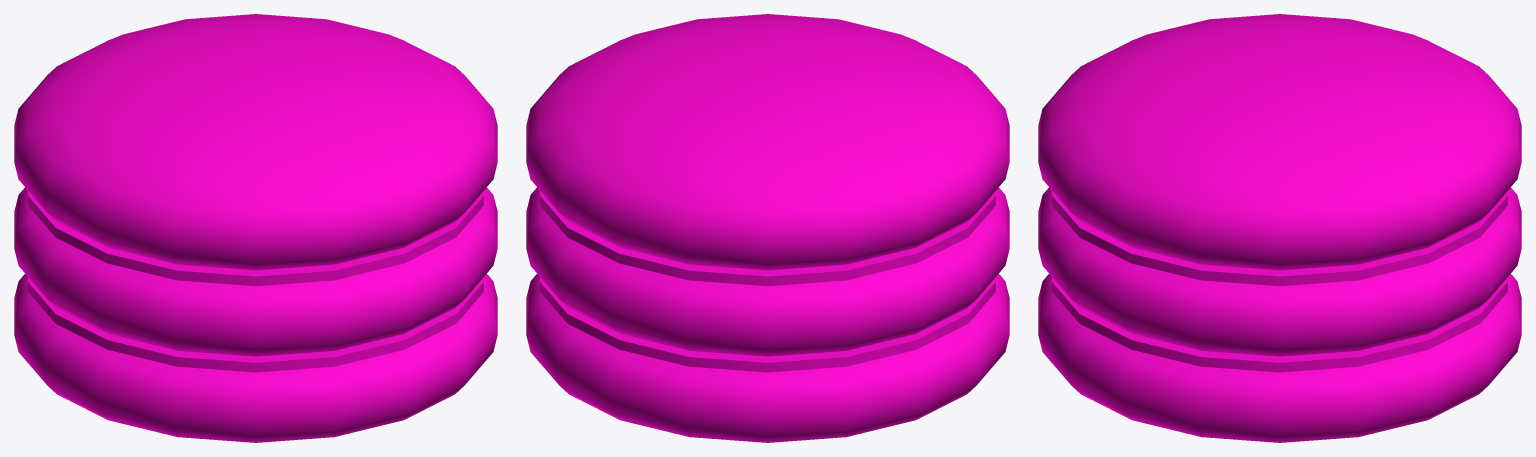
File: Macaron.fbx
The picture shows the model from 3 angles, left to right: view 1: azimuth 30°, elevation 25°; view 2: azimuth 150°, elevation 25°; view 3: azimuth 270°, elevation 25°; orthographic projection.
Visible parts, largest first — view 1: Macaron_Tapa, Macaron_Base; view 2: Macaron_Tapa, Macaron_Base; view 3: Macaron_Tapa, Macaron_Base.
Part boxes in pixels (<box>): Macaron_Tapa: <box>14,14,497,270</box>; Macaron_Base: <box>14,187,497,442</box>; Macaron_Tapa: <box>526,14,1009,270</box>; Macaron_Base: <box>526,187,1009,442</box>; Macaron_Tapa: <box>1038,14,1521,270</box>; Macaron_Base: <box>1038,187,1521,442</box>.
Size of the model in its own units: 0.9192 by 0.5776 by 0.9052.
